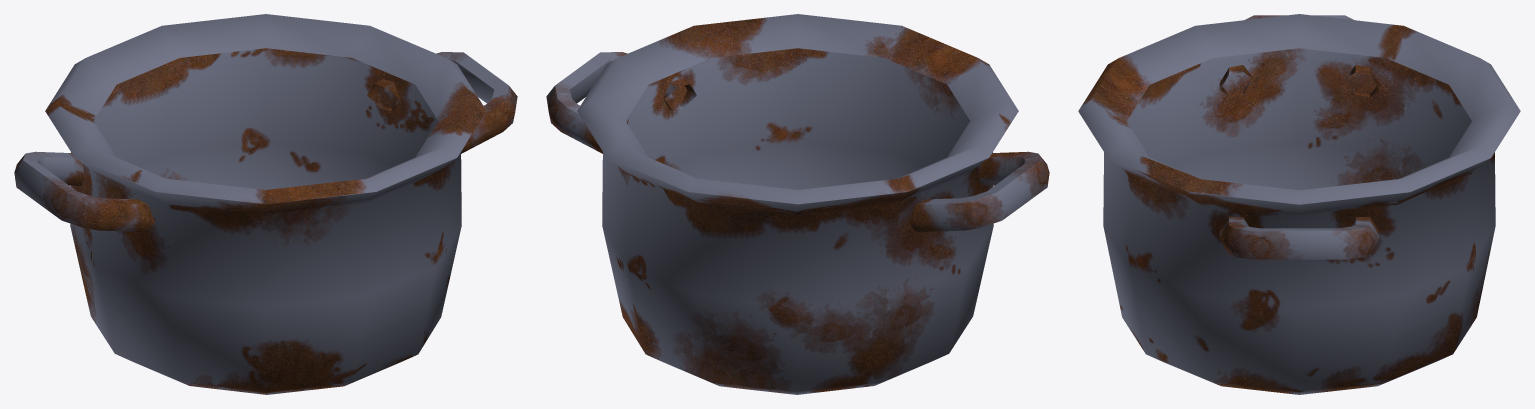
Rendered from pot_F.fbx.
3 renders of one model, left to right at view 1: azimuth 30°, elevation 25°; view 2: azimuth 150°, elevation 25°; view 3: azimuth 270°, elevation 25°, orthographic.
Parts seen in each view (by area): view 1: pot; view 2: pot; view 3: pot.
Part boxes in pixels (bbox=[...]): pot: bbox=[14, 14, 517, 394]; pot: bbox=[546, 14, 1049, 394]; pot: bbox=[1078, 14, 1520, 394].
Bounding box in the file's own units: 101 × 48.18 × 84.93.
1 material, 1 textured.
